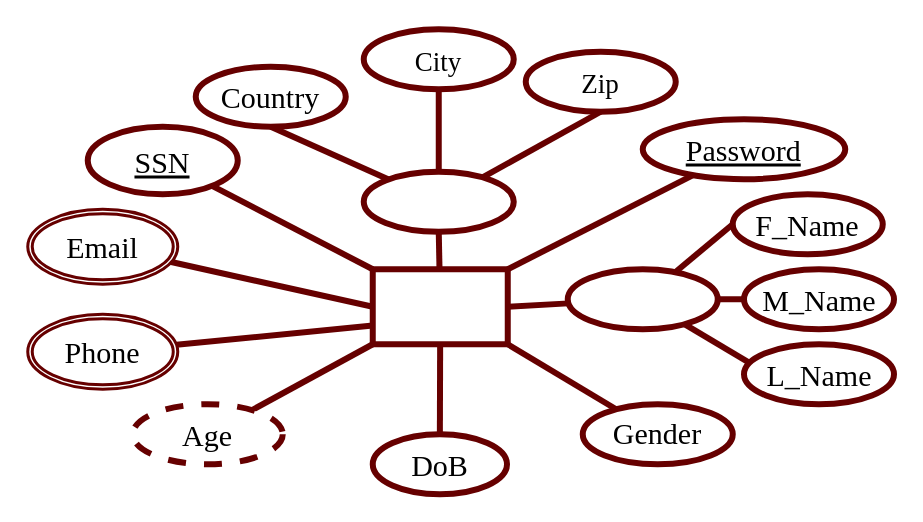
Some shapes in this 923 by 522 pixel diagram are drawn without their labels. The shapes that lost their labels are listed below. From the top down, each one's centre as x and y in pixels, then its label:
the point at 438,201: Address
the point at 439,306: Admin
the point at 642,299: Name
